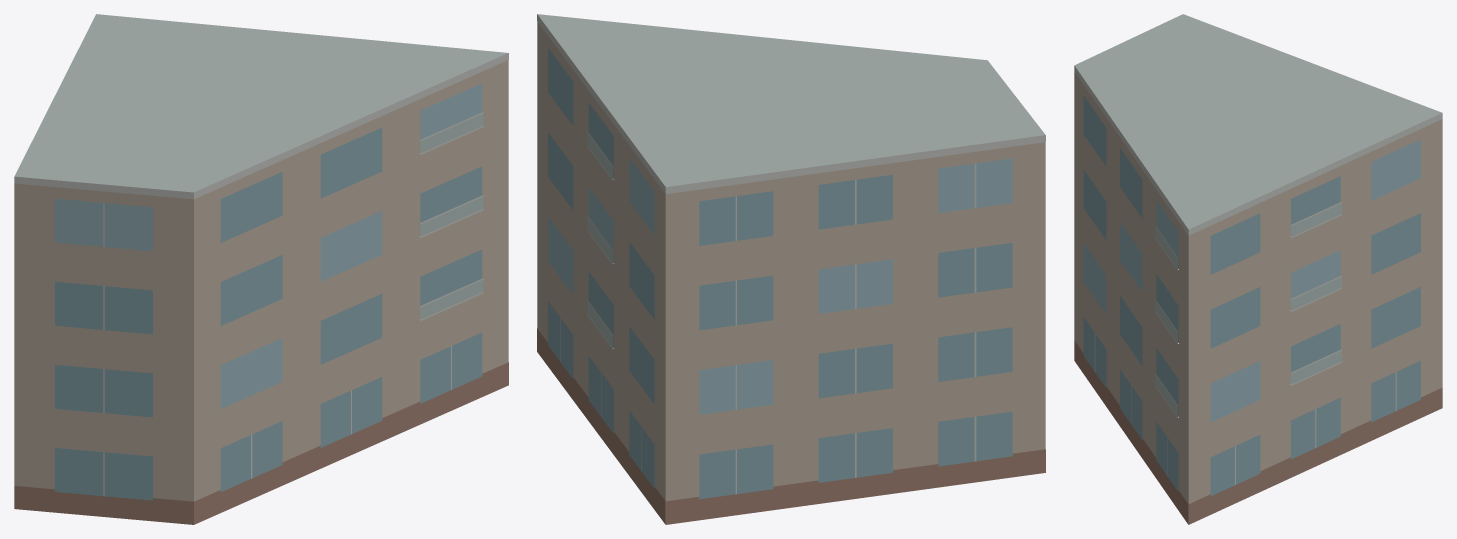
File: survey-upis-32703259.glb
3 views of the same model, side by side, from view 1: azimuth 30°, elevation 25°; view 2: azimuth 150°, elevation 25°; view 3: azimuth 270°, elevation 25° (orthographic). The views are drawn at different scales.
Parts seen in each view (by area): view 1: survey-upis-32703259.tmp; view 2: survey-upis-32703259.tmp; view 3: survey-upis-32703259.tmp.
Boxes of the visible parts, x1,y1,x2,y2 form: survey-upis-32703259.tmp: [14, 14, 508, 524]; survey-upis-32703259.tmp: [537, 14, 1045, 524]; survey-upis-32703259.tmp: [1074, 14, 1442, 524].
Bounding box in the file's own units: 18.34 × 11.7 × 13.24.
